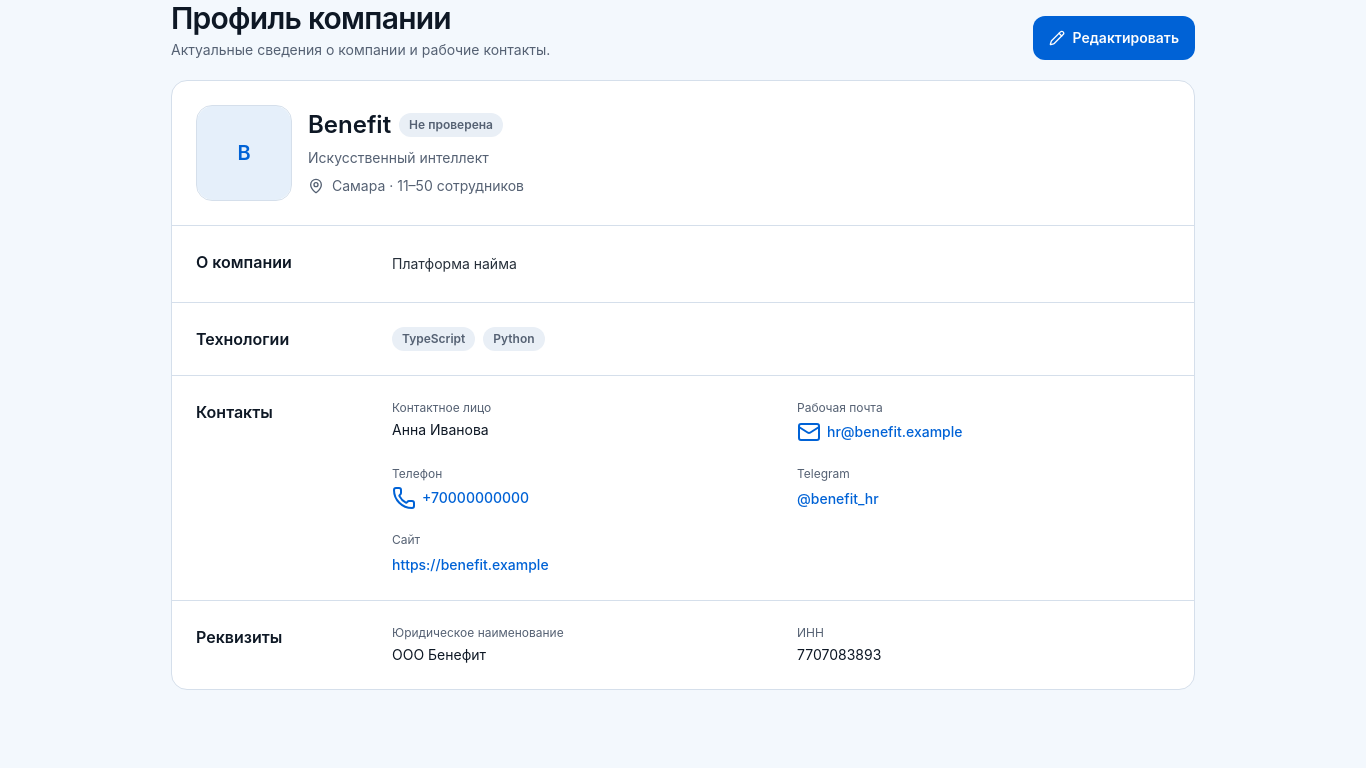
Test: employer company profile › keeps input after 422 and maps a server issue to its field
The width and height of the screenshot is (1366, 768).
Click the button "Редактировать". click: (1114,38)
box: left=1033, top=16, right=1195, bottom=60
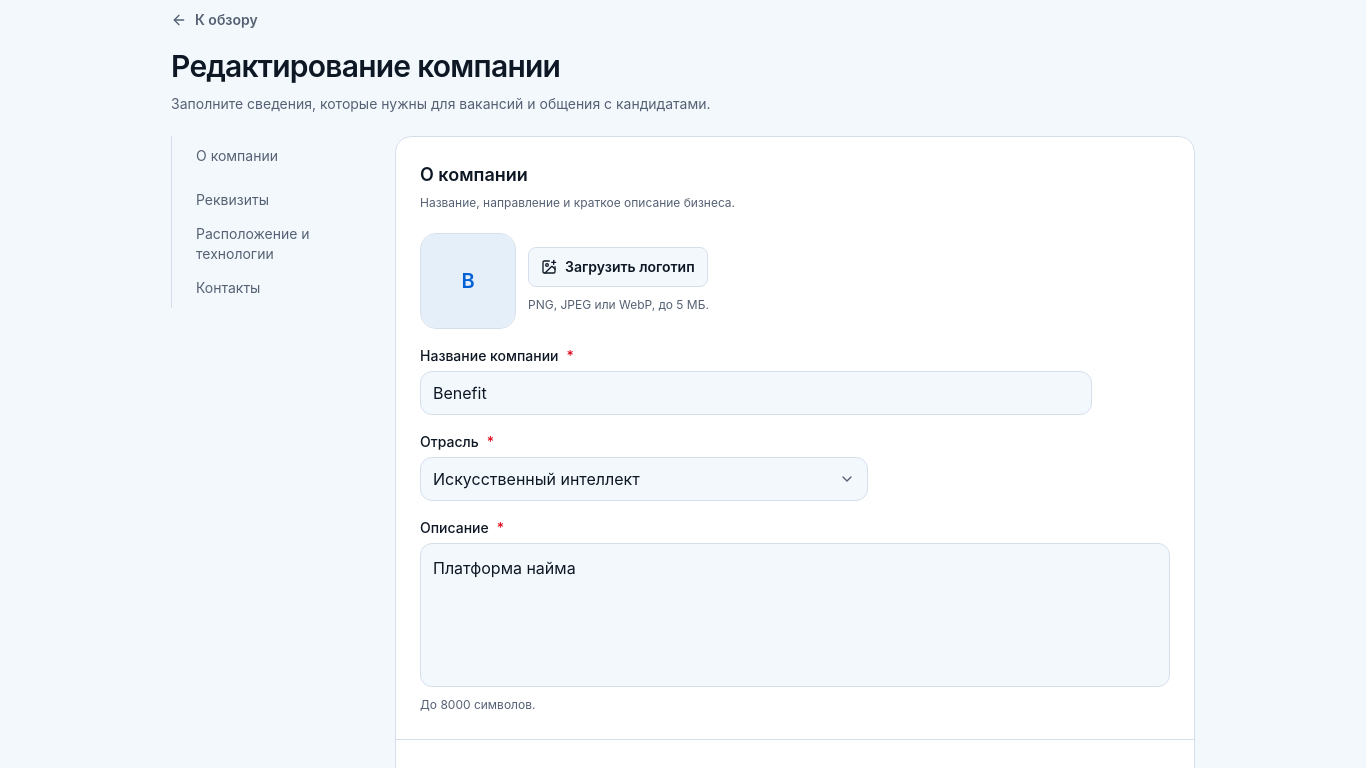
Clear the field labelled "Название компании *". click: (756,393)
box: left=420, top=371, right=1092, bottom=415
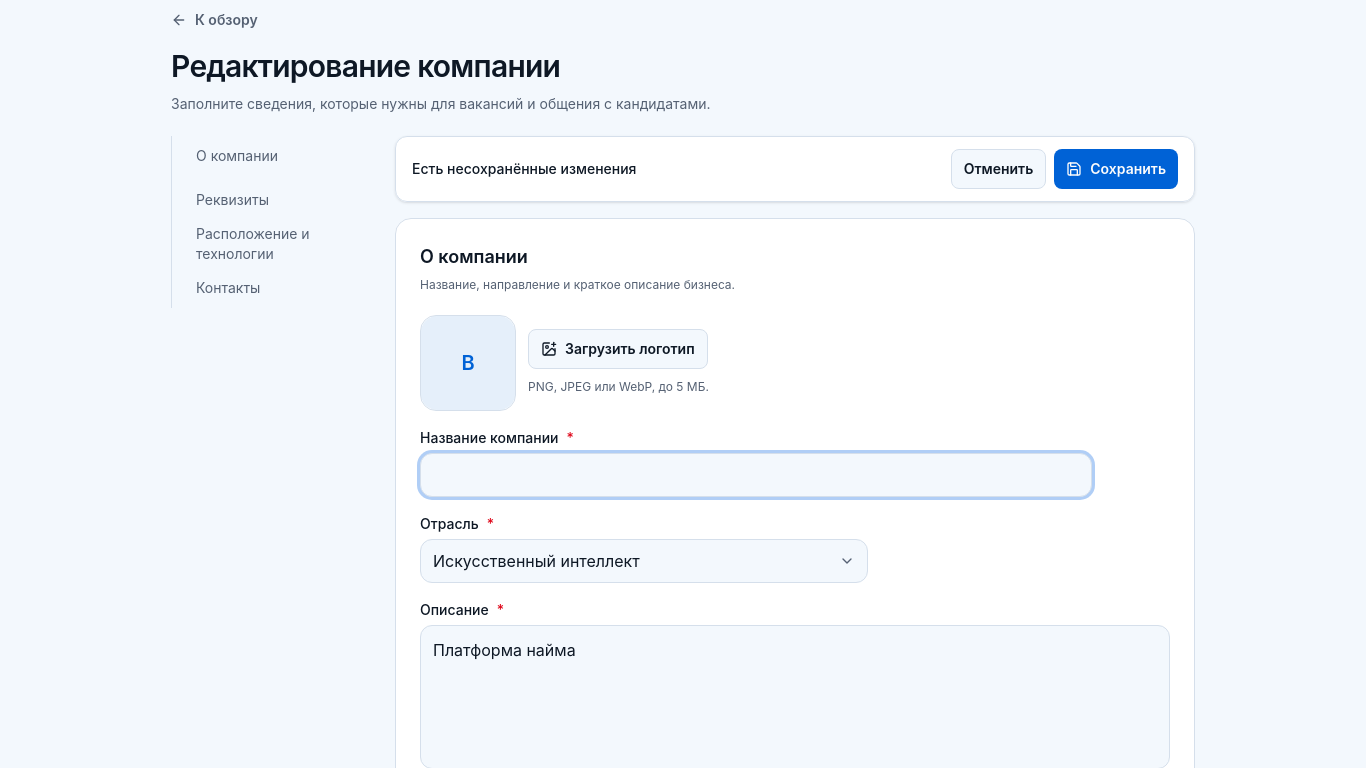
Type "Несохранённое название" into the field labelled "Название компании *". click: (756,475)
box: left=420, top=453, right=1092, bottom=497
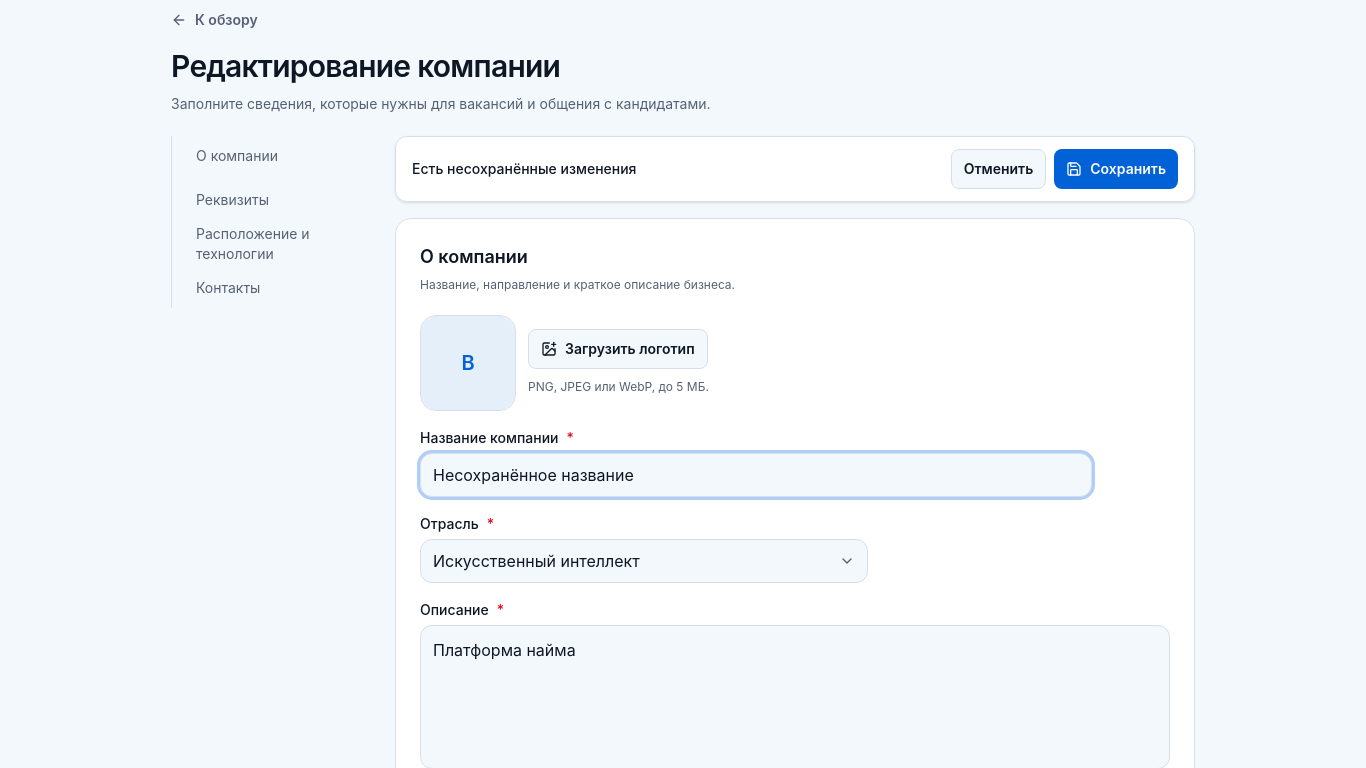
Click the button "Сохранить". click: (1116,169)
box: left=1054, top=149, right=1178, bottom=189
(page scrolled)
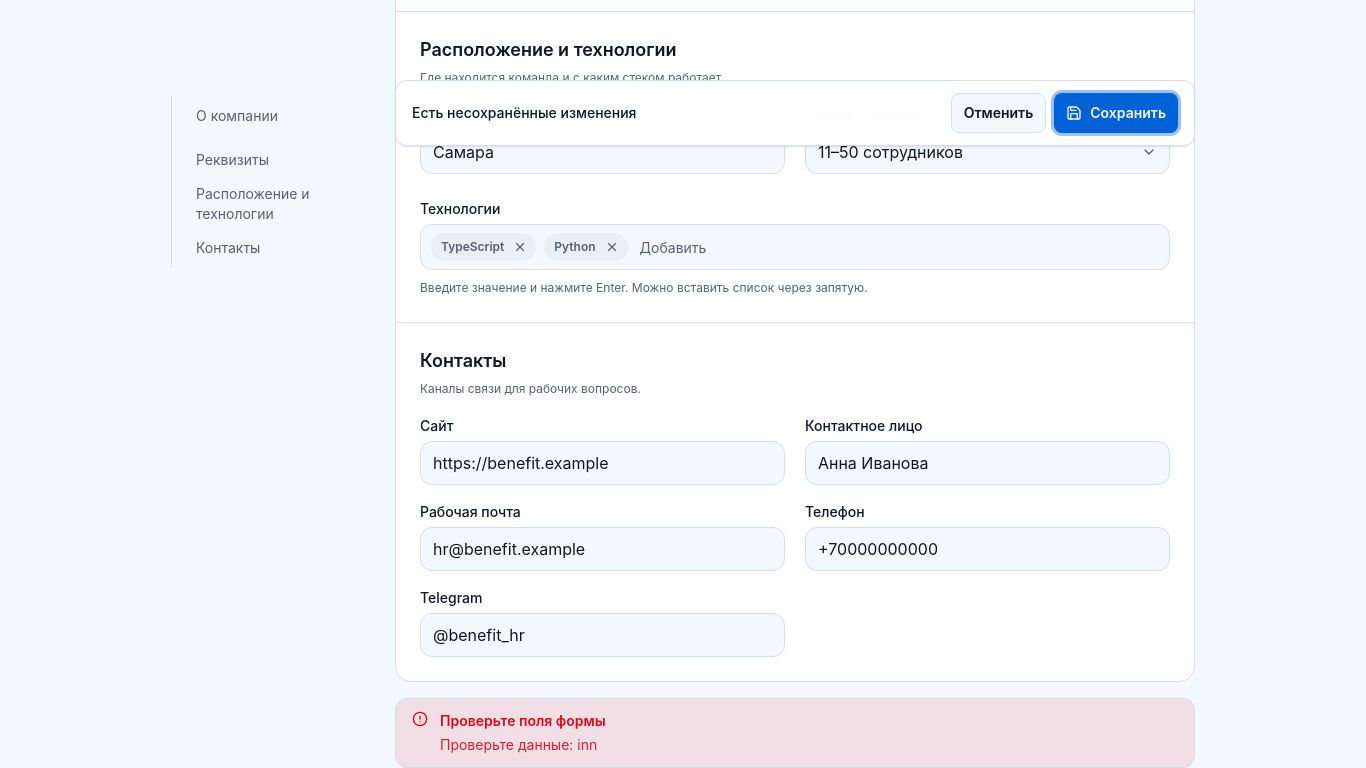
Expected: the text "Проверьте поля формы" is shown, left=440, top=712, right=606, bottom=729
